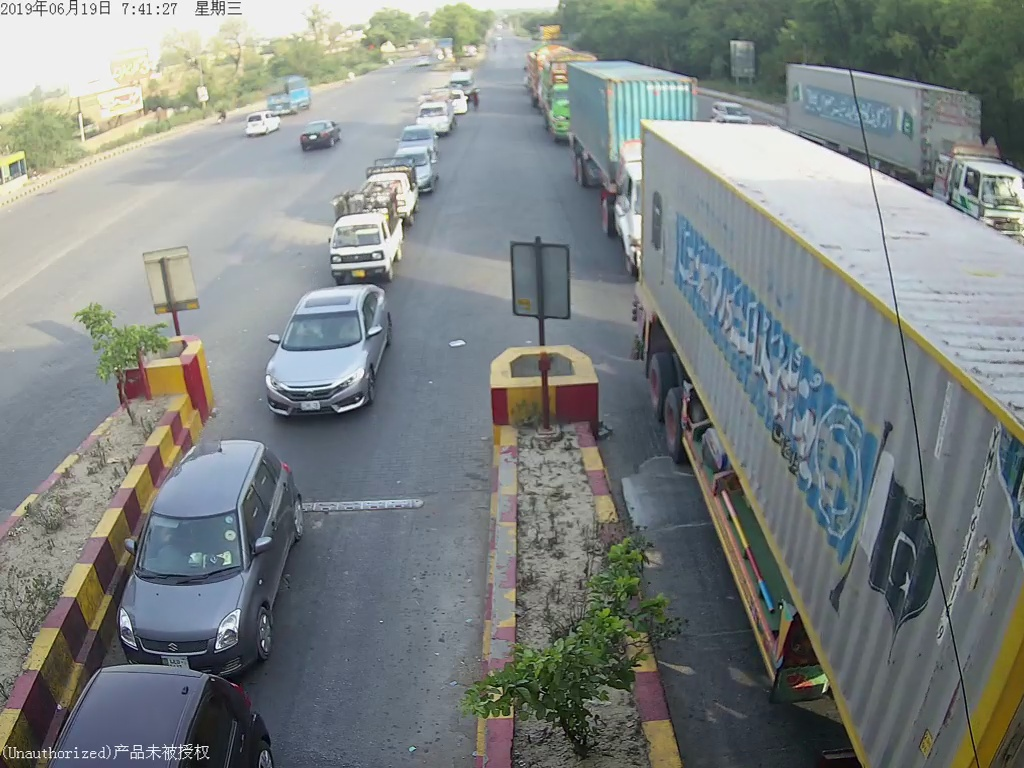Cat-1: (126, 449, 323, 675), (258, 283, 406, 429), (323, 200, 411, 281)
